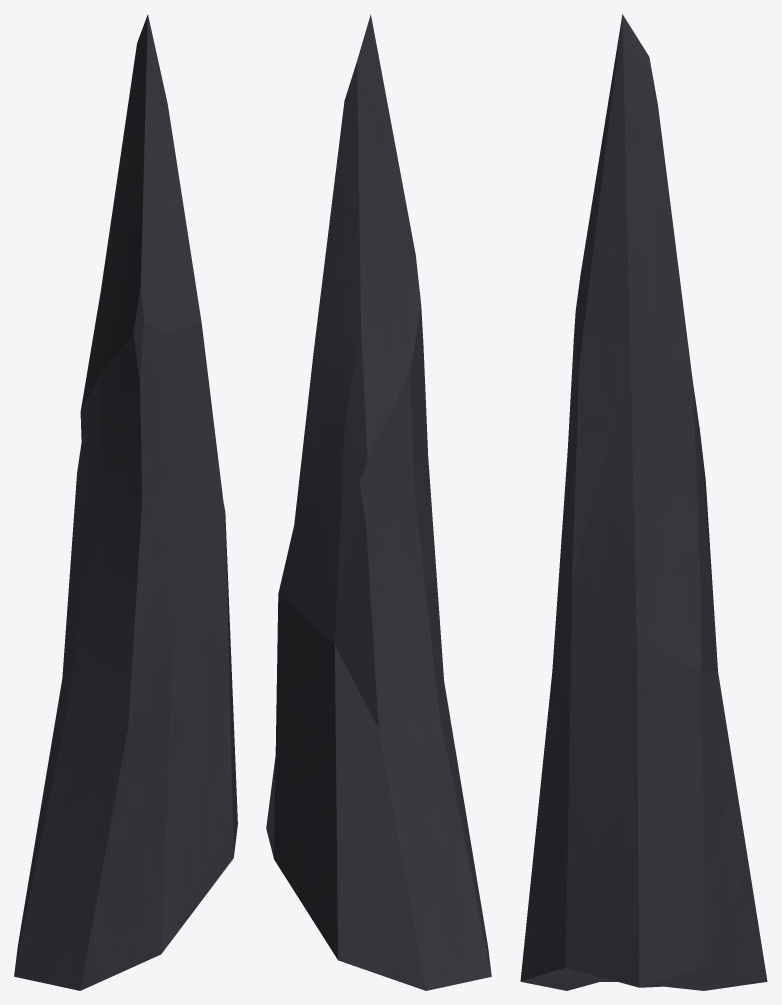
The model's file is stonicle 4.fbx.
3 views of the same model, side by side, from view 1: azimuth 30°, elevation 25°; view 2: azimuth 150°, elevation 25°; view 3: azimuth 270°, elevation 25° (orthographic). The views are drawn at different scales.
Visible parts, largest first — view 1: Cube.006; view 2: Cube.006; view 3: Cube.006.
Boxes of the visible parts, x1=… form: Cube.006: x1=14, y1=14, x2=237, y2=990; Cube.006: x1=266, y1=14, x2=491, y2=990; Cube.006: x1=520, y1=14, x2=767, y2=990.
Bounding box in the file's own units: 450 × 1784 × 389.
